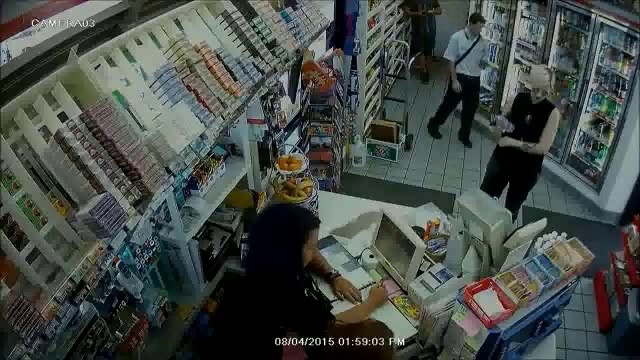normal: (232, 196, 392, 333), (482, 63, 561, 213), (425, 12, 488, 149)
